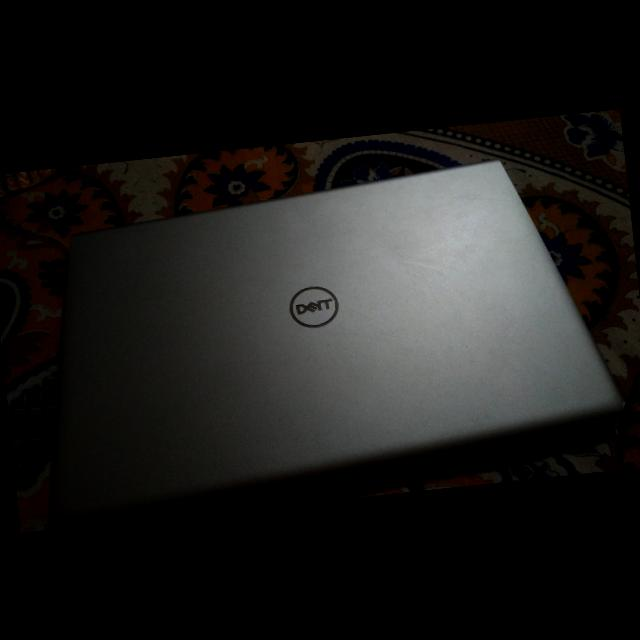laptop: (1, 141, 634, 524)
